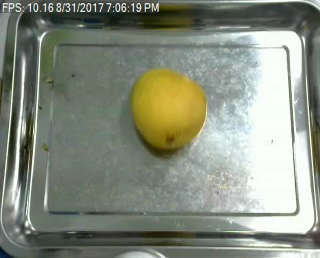Mango: (130, 68, 206, 148)
